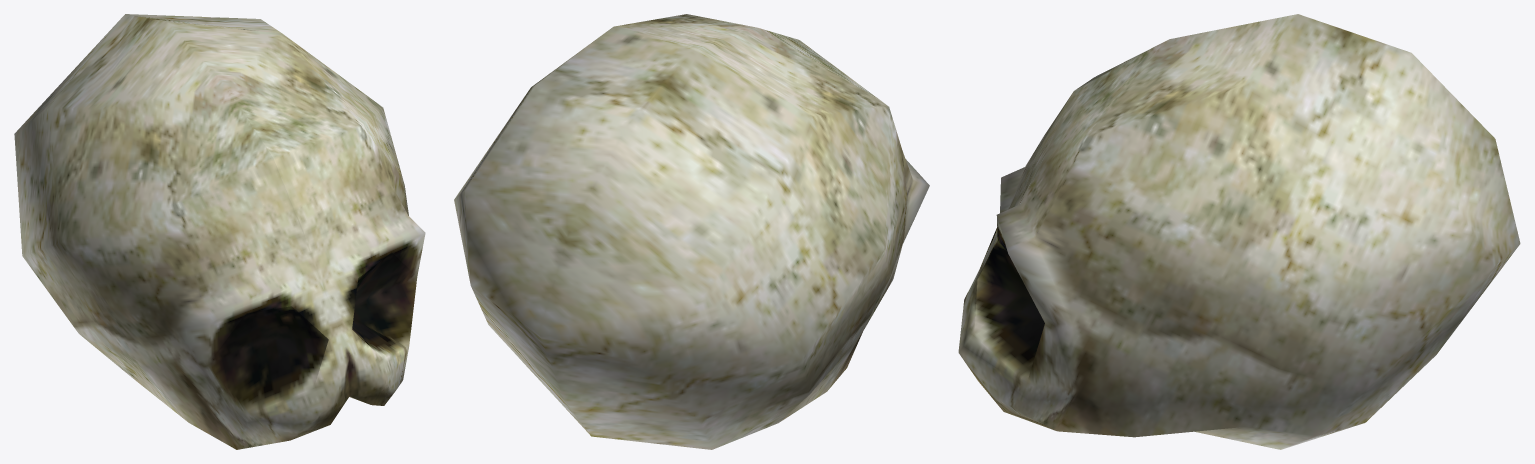
File: poi_all_skeleton_bith_head_l1.fbx
The picture shows the model from 3 angles, left to right: view 1: azimuth 30°, elevation 25°; view 2: azimuth 150°, elevation 25°; view 3: azimuth 270°, elevation 25°; orthographic projection. The views are drawn at different scales.
Parts seen in each view (by area): view 1: mesh_node; view 2: mesh_node; view 3: mesh_node.
Boxes of the visible parts, left/top/right/bottom form: mesh_node: left=14, top=14, right=425, bottom=449; mesh_node: left=454, top=14, right=929, bottom=449; mesh_node: left=958, top=14, right=1520, bottom=449.
Bounding box in the file's own units: 0.2051 × 0.2132 × 0.2705.
Materials: 1 (1 with a texture image).
